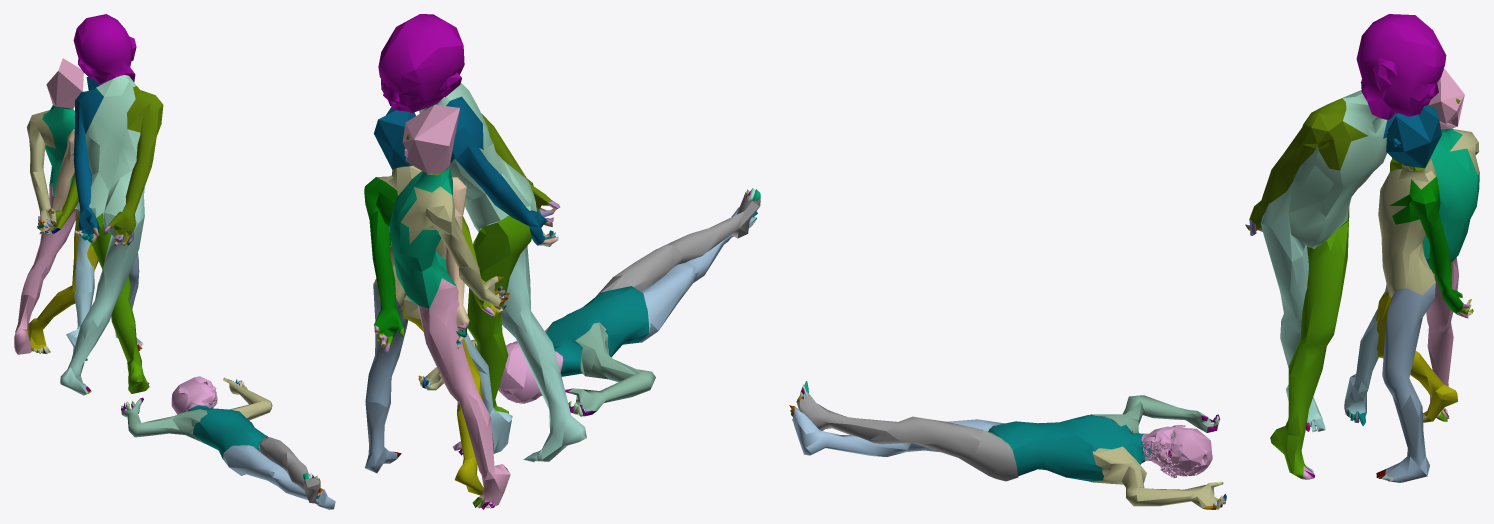
The model's file is GammaVertex.fbx.
3 renders of one model, left to right at view 1: azimuth 30°, elevation 25°; view 2: azimuth 150°, elevation 25°; view 3: azimuth 270°, elevation 25°, orthographic. The views are drawn at different scales.
Parts seen in each view (by area): view 1: sub04.002; view 2: sub04.002; view 3: sub04.002.
Part boxes in pixels (<box>): sub04.002: <box>14,14,335,509</box>; sub04.002: <box>364,14,760,509</box>; sub04.002: <box>789,14,1479,509</box>.
Bounding box in the file's own units: 334 × 720 × 985.
